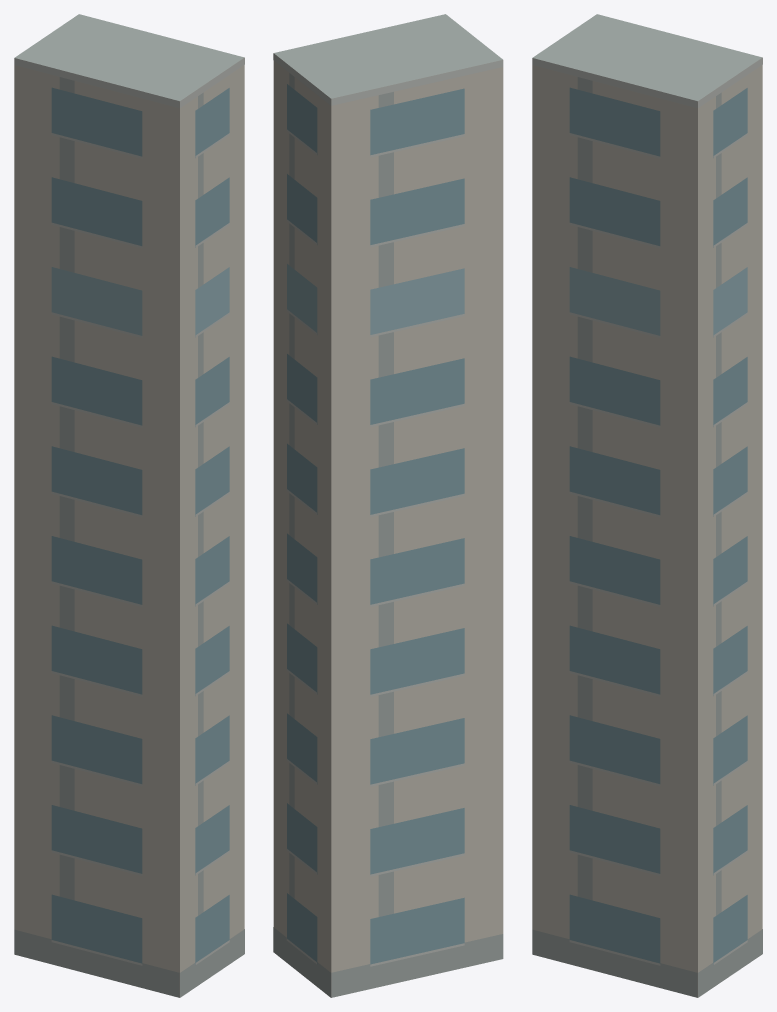
File: survey-upis-32832915.glb
3 views of the same model, side by side, from view 1: azimuth 90°, elevation 25°; view 2: azimuth 150°, elevation 25°; view 3: azimuth 270°, elevation 25° (orthographic).
Parts seen in each view (by area): view 1: survey-upis-32832915.tmp; view 2: survey-upis-32832915.tmp; view 3: survey-upis-32832915.tmp.
Part boxes in pixels (<box>): survey-upis-32832915.tmp: <box>14,14,244,997</box>; survey-upis-32832915.tmp: <box>273,14,503,997</box>; survey-upis-32832915.tmp: <box>532,14,762,997</box>.
Size of the model in its own units: 6.37 by 30.5 by 7.11.
